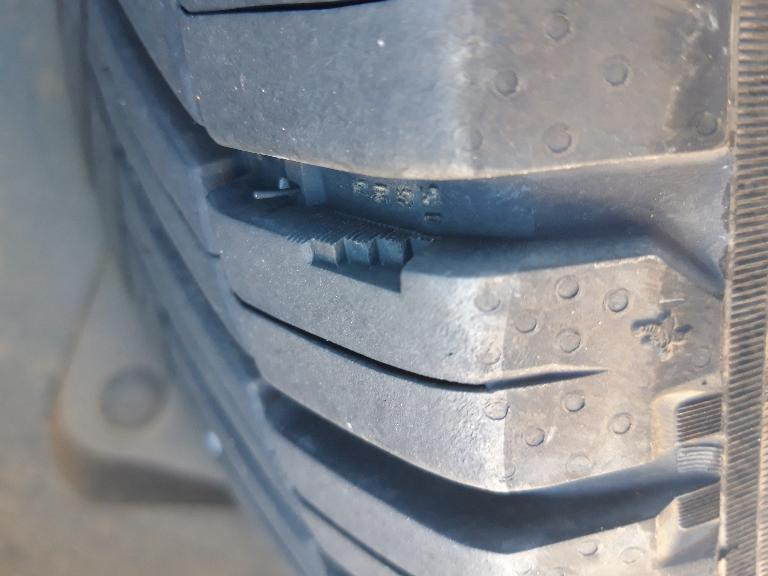temoin:90: (280, 206, 445, 303)
